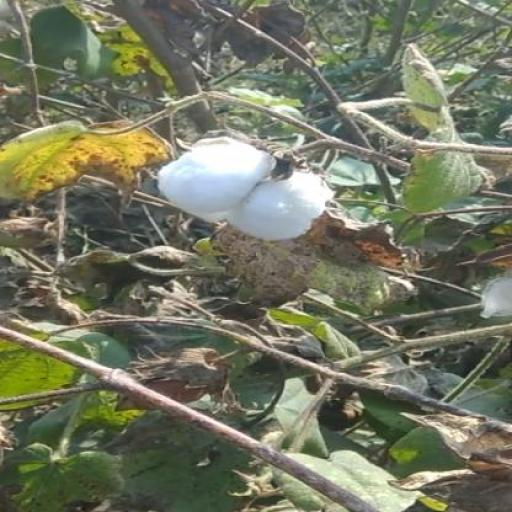cotton_ready: (146, 131, 339, 242)
